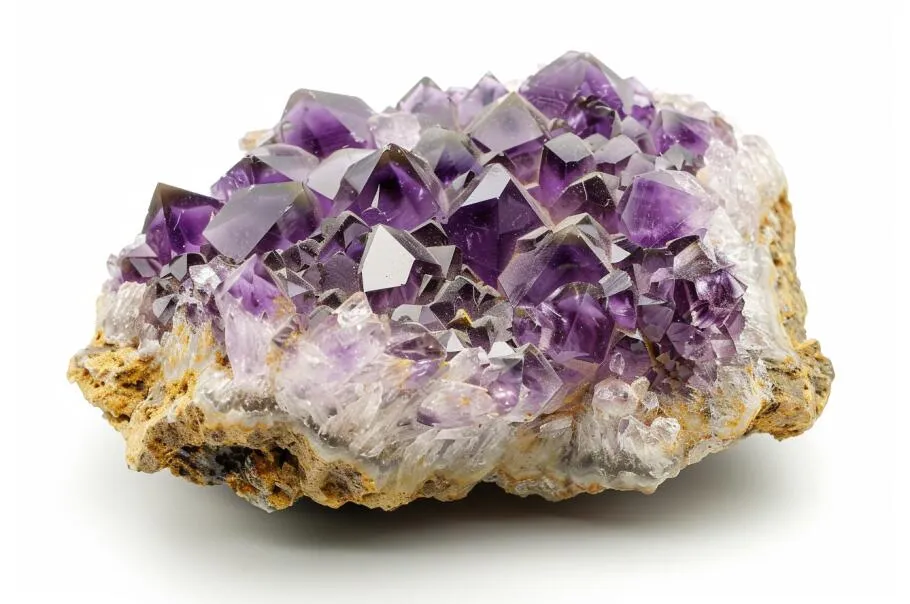Amethyst: (107, 47, 754, 425)
